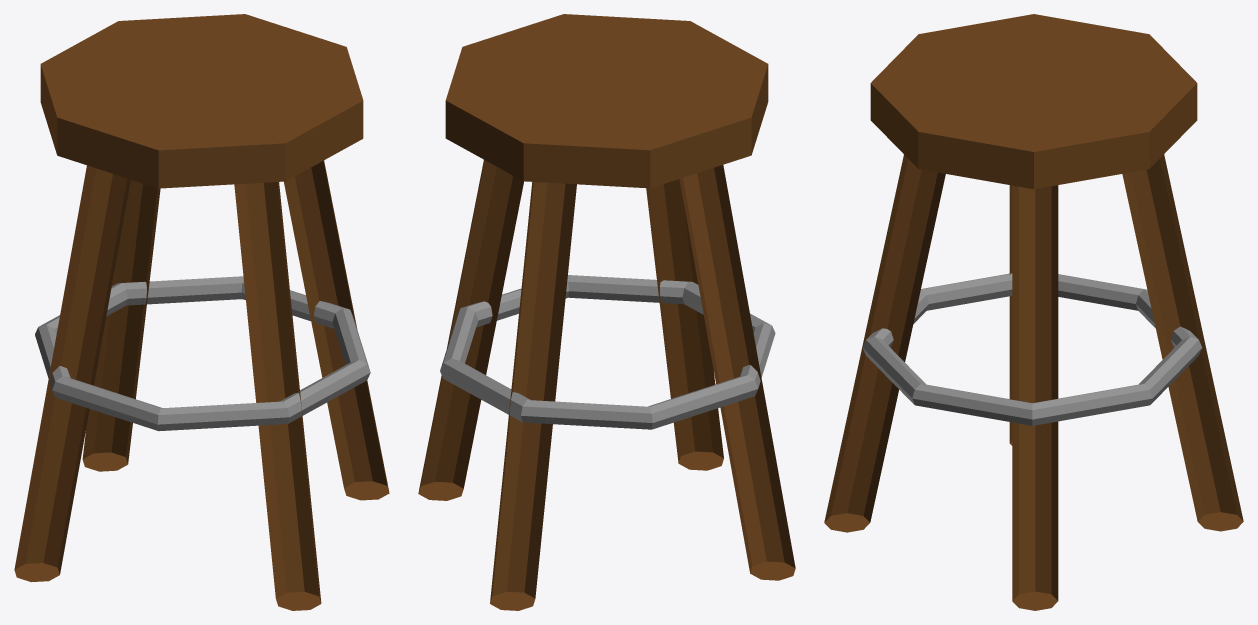
Rendered from LowPolyStool.glb.
The picture shows the model from 3 angles, left to right: view 1: azimuth 30°, elevation 25°; view 2: azimuth 150°, elevation 25°; view 3: azimuth 270°, elevation 25°; orthographic projection. The views are drawn at different scales.
Parts seen in each view (by area): view 1: Cylinder.005, Stool2, Torus.003; view 2: Cylinder.005, Stool2, Torus.003; view 3: Cylinder.005, Stool2, Torus.003.
Boxes of the visible parts, left/top/right/bottom form: Cylinder.005: left=14, top=160, right=389, bottom=610; Stool2: left=40, top=14, right=363, bottom=188; Torus.003: left=35, top=276, right=370, bottom=431; Cylinder.005: left=418, top=160, right=795, bottom=610; Stool2: left=445, top=14, right=768, bottom=188; Torus.003: left=440, top=275, right=775, bottom=429; Cylinder.005: left=824, top=154, right=1243, bottom=610; Stool2: left=870, top=14, right=1197, bottom=189; Torus.003: left=862, top=273, right=1202, bottom=425.
Bounding box in the file's own units: 257 × 297 × 257.
